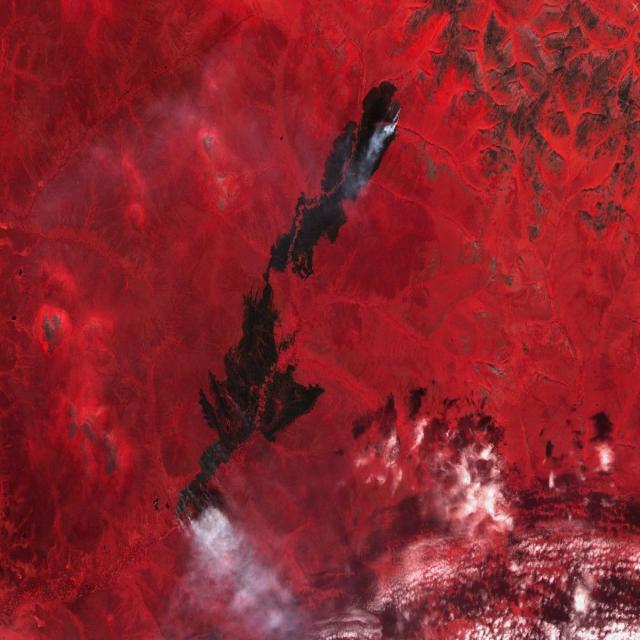fire: (167, 432, 223, 540), (372, 86, 409, 139)
